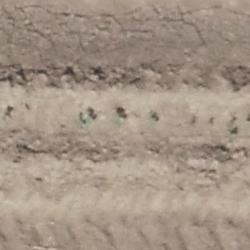cotton: (82, 117, 91, 124), (229, 129, 235, 135), (120, 118, 125, 124), (150, 112, 153, 119)
